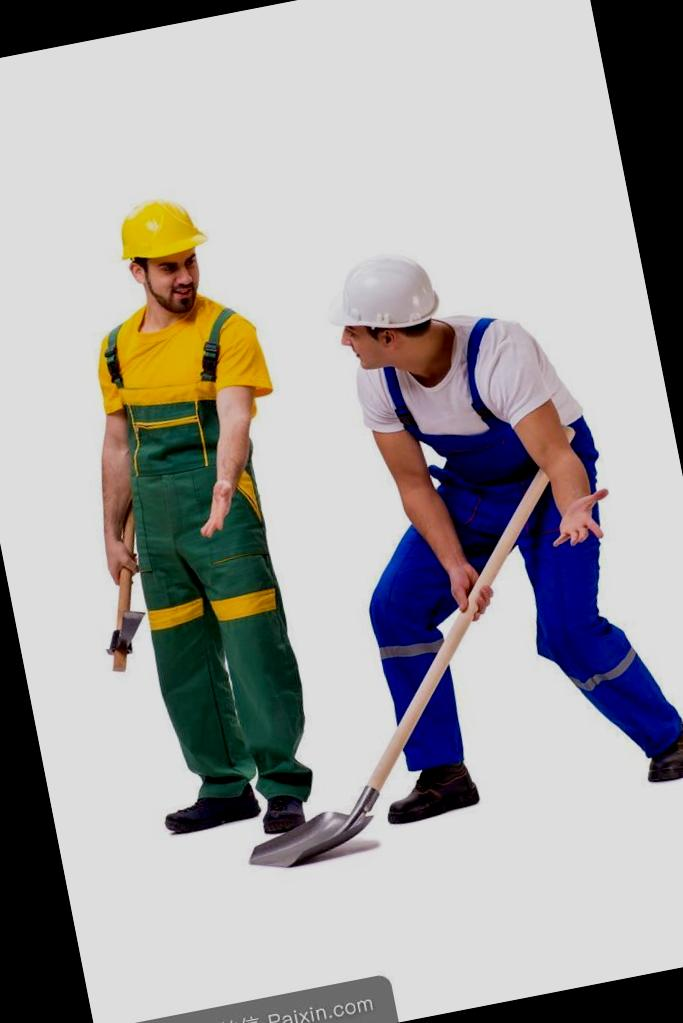helmet: (331, 244, 436, 346), (107, 187, 203, 270)
no_vest: (76, 287, 300, 562), (355, 326, 586, 536)
person: (288, 203, 683, 843), (20, 171, 358, 855)
